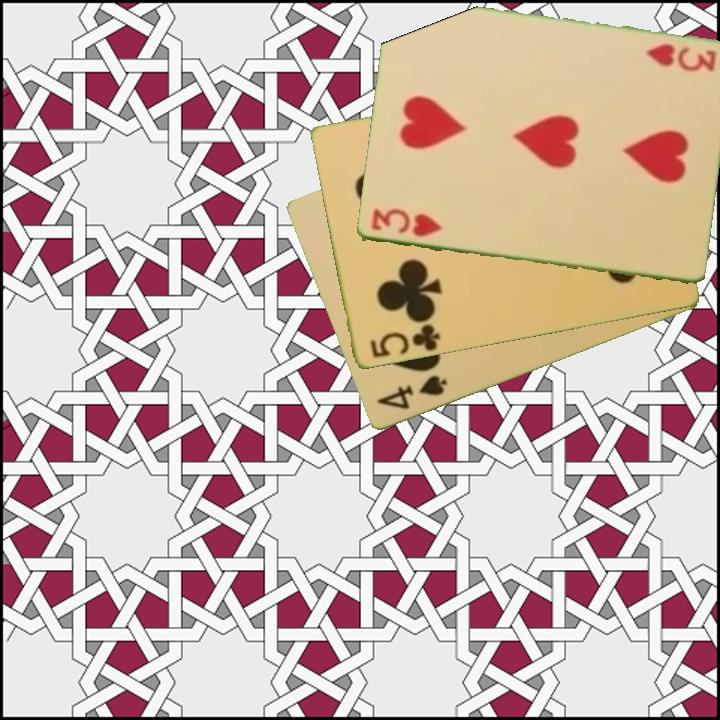3h: (641, 40, 718, 75), (367, 206, 444, 240)
4s: (372, 372, 450, 414)
5c: (366, 318, 443, 361)
